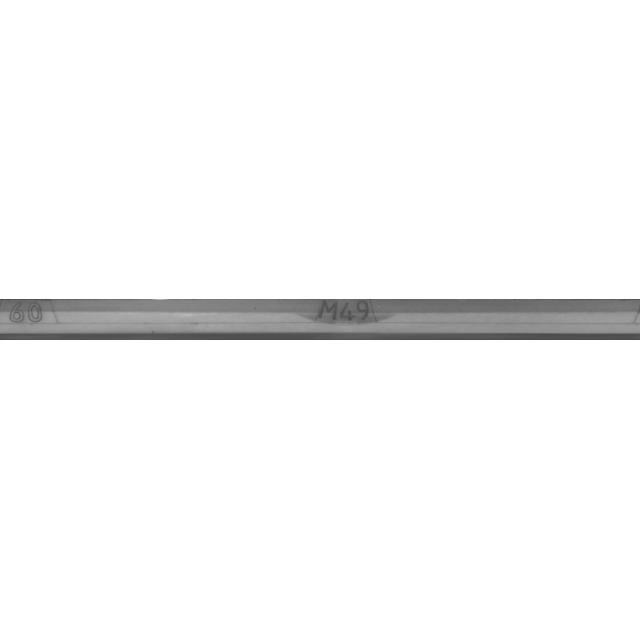mohao: (253, 270, 453, 370)
xuehao: (0, 270, 130, 370)
